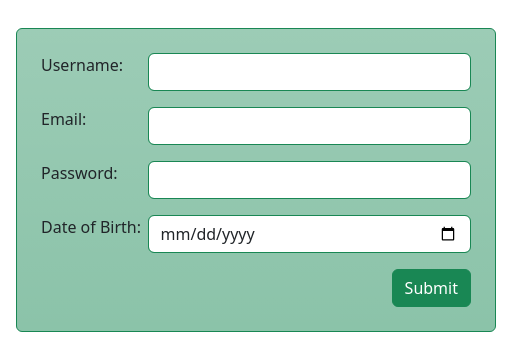
Test: Validation after incorrect data submission › Displays an error message 'Email is required' if email is empty
In the field with test id "username": (310, 72) [148,53,472,91], type "marius"
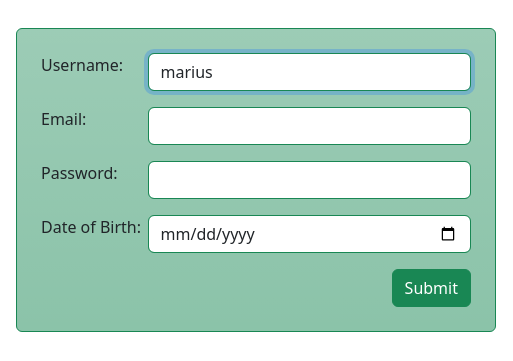
In the password field with test id "password": (310, 180) [148,161,472,199], type "mariuxas"
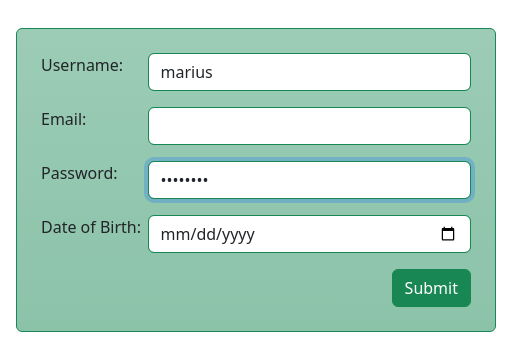
In the date field with test id "date-of-birth": (310, 234) [148,215,472,253], type "1995-05-30"
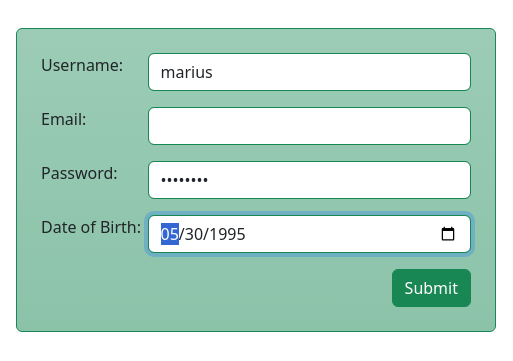
Click the button with test id "submit": (432, 288) [392,269,471,307]
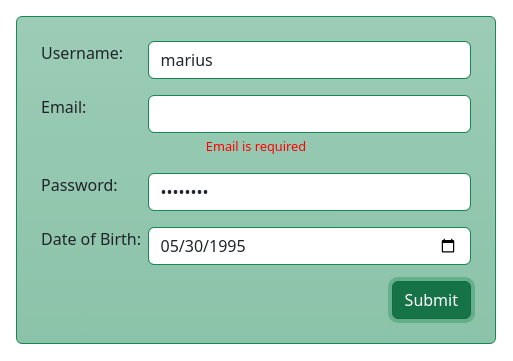
Expected: the text "Email is required" is shown, [206,137,306,155]
